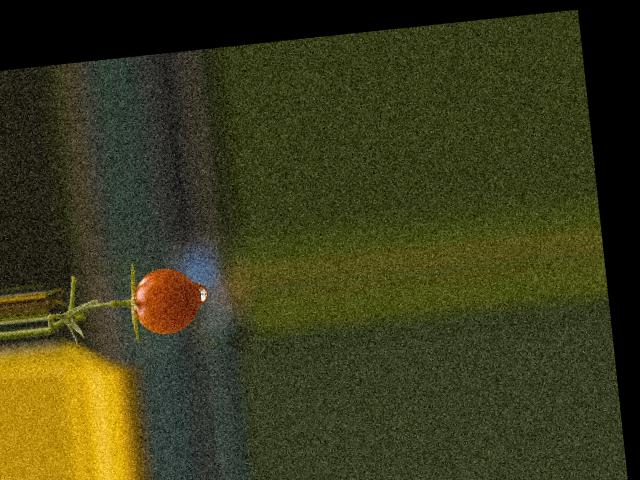tomato: (130, 264, 201, 336)
